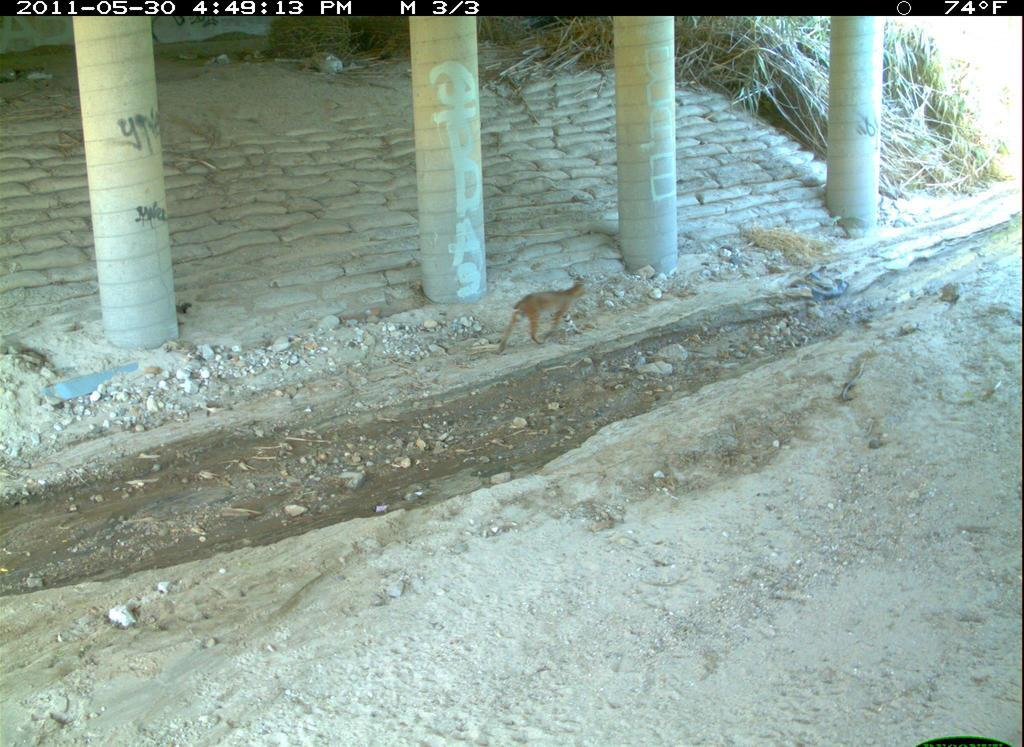bobcat: (984, 539, 1024, 720)
